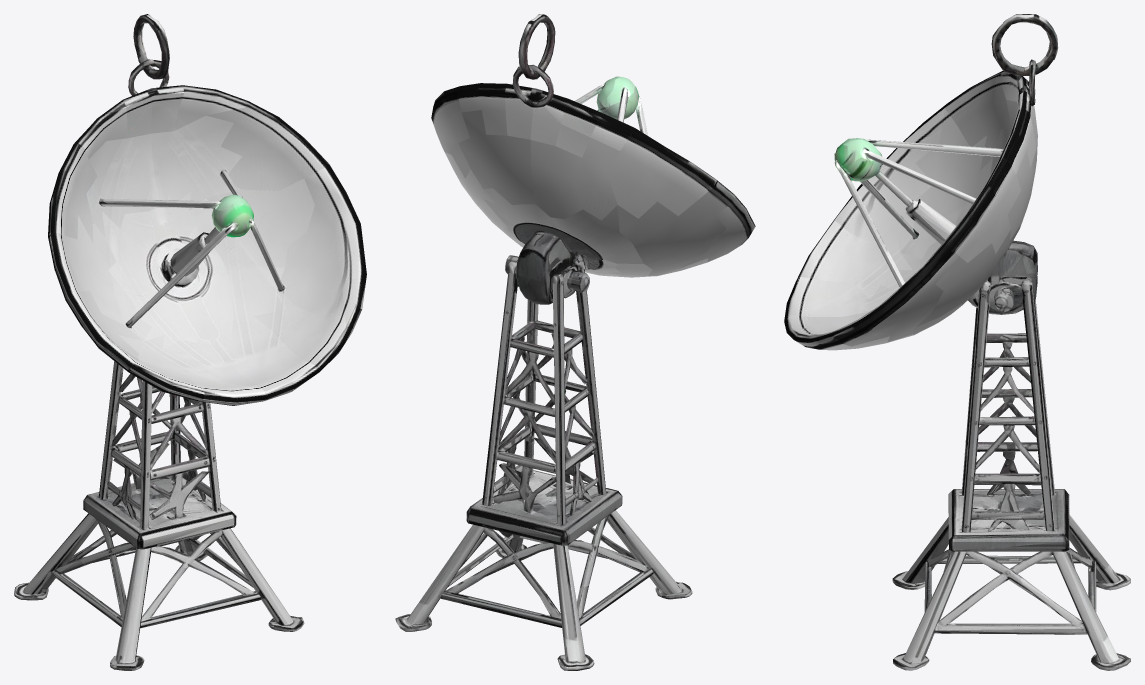
The model's file is radio_telescope.glb.
The picture shows the model from 3 angles, left to right: view 1: azimuth 30°, elevation 25°; view 2: azimuth 150°, elevation 25°; view 3: azimuth 270°, elevation 25°; orthographic projection. The views are drawn at different scales.
Size of the model in its own units: 0.5234 by 1 by 0.5176.
Materials: 1 (1 with a texture image).
